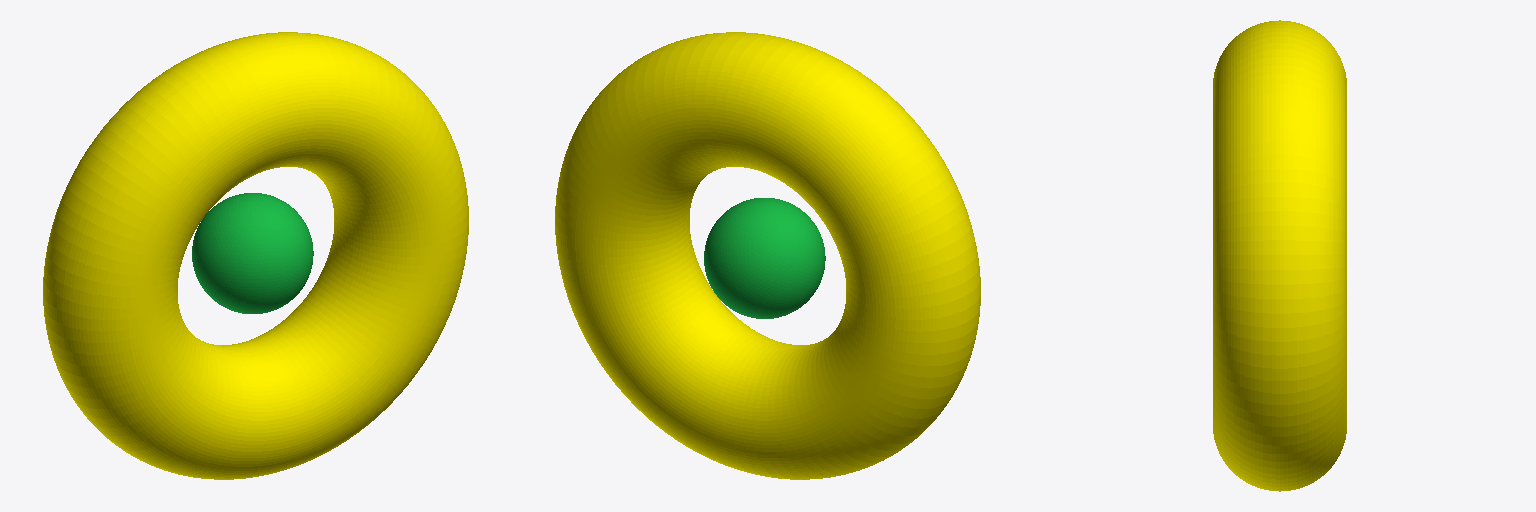
Rendered from target.obj.
The picture shows the model from 3 angles: view 1: azimuth 30°, elevation 25°; view 2: azimuth 150°, elevation 25°; view 3: azimuth 270°, elevation 25°; orthographic projection.
Parts seen in each view (by area): view 1: Object.1, Object.2; view 2: Object.1, Object.2; view 3: Object.1.
Boxes of the visible parts, x1,y1,x2,y2 form: Object.1: [43, 32, 468, 479]; Object.2: [192, 193, 313, 313]; Object.1: [555, 32, 980, 479]; Object.2: [704, 198, 825, 318]; Object.1: [1213, 20, 1346, 491].
Bounding box in the file's own units: 70 × 70 × 20.